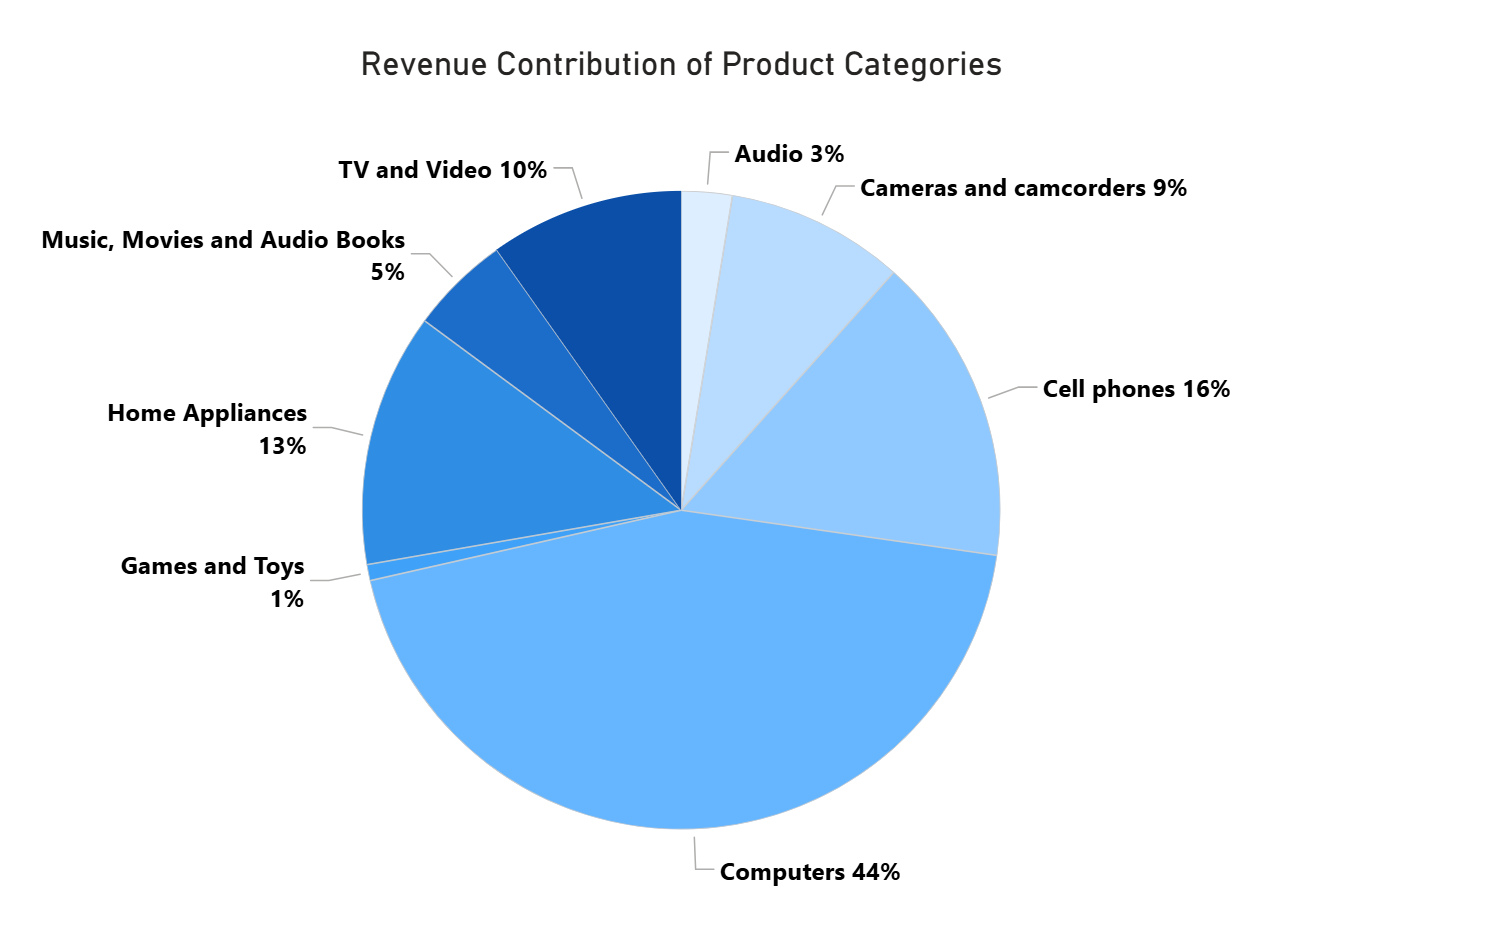

Layout of this report page (visuals, bound fields, positions):
{"tool":"powerbi","page":{"name":"category_revenue_contribution","canvas":[1280,720],"ordinal":3},"visuals":[{"type":"pieChart","title":"Revenue Contribution of Product Categories","fields":{"Category":["public vw_category_contribution.product_category"],"Y":["Sum(public vw_category_contribution.category_revenue)"]},"box":[147.1,58.9,957.5,587.6],"z":0}]}

Visuals, with their boxes on the page's 1280x720 design canvas (x1, y1, x2, y2). These are canvas units, not pixel positions in the 1504x947 screenshot, which may show the page scaled, cropped or inside an application window:
"Revenue Contribution of Product Categories" pieChart: crop(147, 59, 1105, 646)
